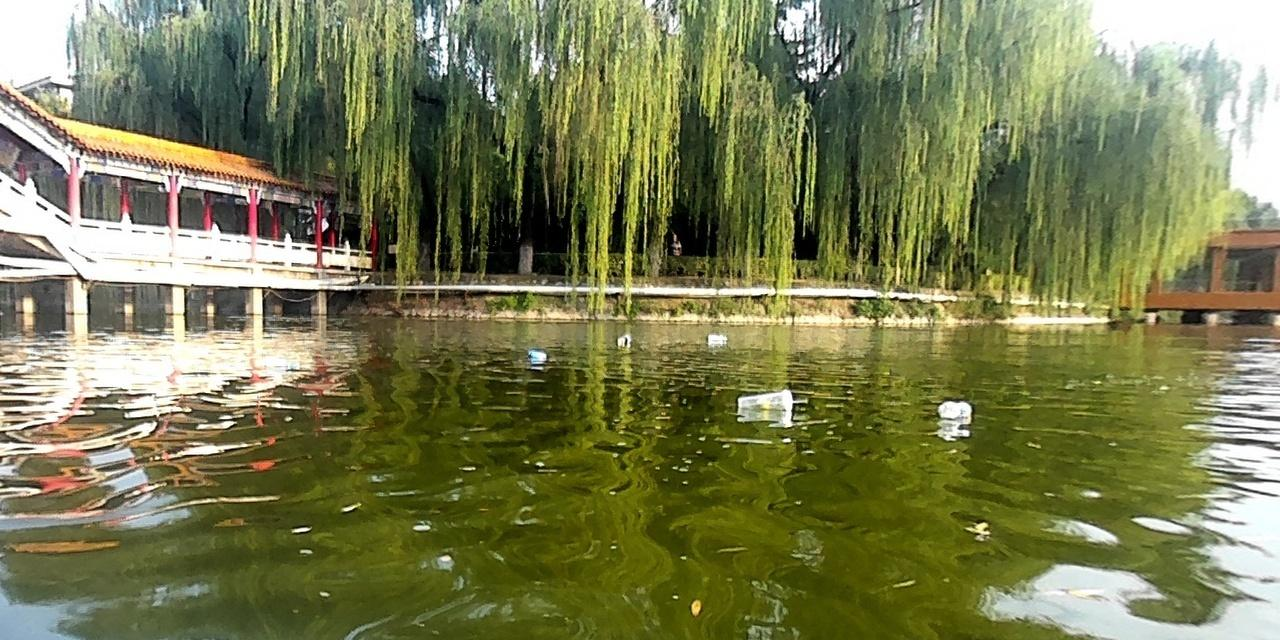bottle: (730, 384, 796, 413), (935, 398, 971, 419), (704, 329, 730, 343), (524, 345, 548, 360), (612, 331, 633, 345)
